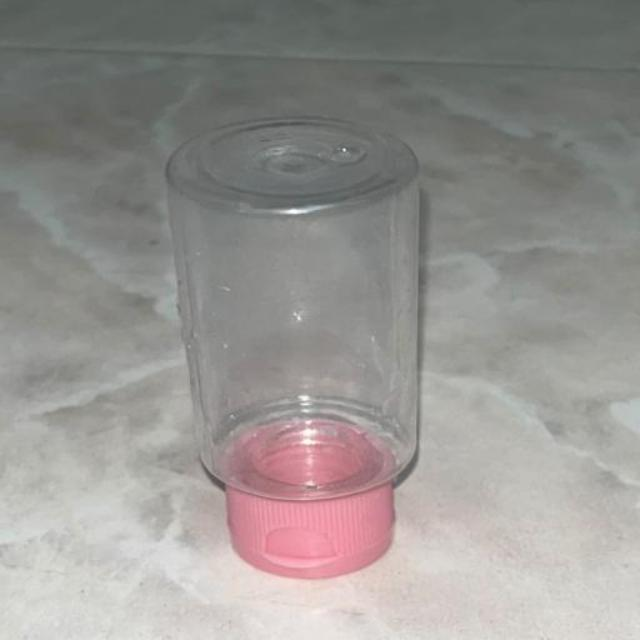PET: (100, 70, 549, 612)
